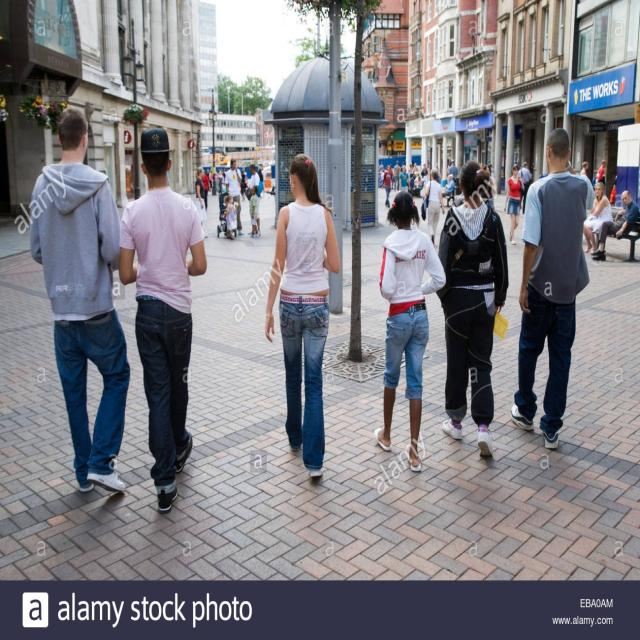body: (27, 103, 133, 498), (116, 125, 210, 517), (508, 124, 598, 454), (263, 148, 342, 481), (372, 187, 448, 476), (437, 157, 509, 459), (590, 189, 639, 262), (582, 180, 614, 256), (420, 165, 446, 246), (503, 162, 525, 246), (224, 157, 245, 236), (245, 162, 265, 236), (193, 166, 208, 238), (517, 161, 533, 213), (222, 194, 239, 240), (225, 193, 238, 240), (407, 160, 425, 192), (205, 168, 227, 194), (481, 164, 496, 202), (438, 173, 454, 208), (381, 164, 393, 209), (248, 185, 258, 238), (200, 168, 212, 212), (261, 168, 276, 196), (595, 158, 608, 186), (398, 165, 411, 193), (238, 168, 248, 202), (477, 160, 494, 177), (393, 159, 401, 192), (420, 162, 429, 190), (448, 159, 459, 178), (377, 160, 384, 188), (432, 161, 440, 183), (580, 160, 589, 174), (257, 168, 264, 184), (446, 161, 452, 176), (399, 162, 406, 173), (436, 172, 441, 186), (613, 174, 618, 187), (426, 161, 430, 177)
